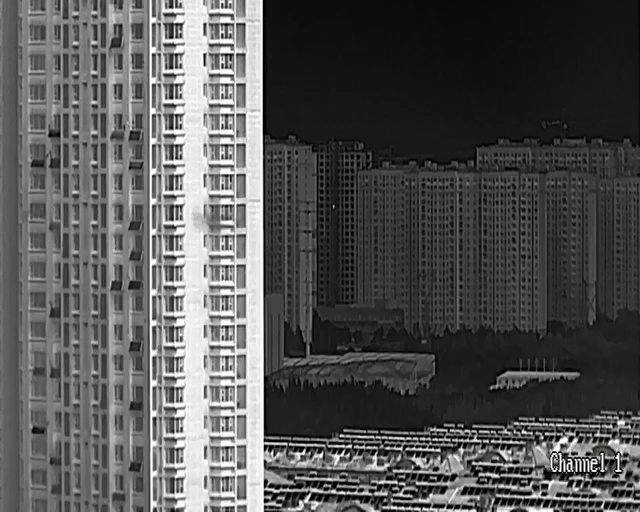uav: (191, 212, 218, 230)
